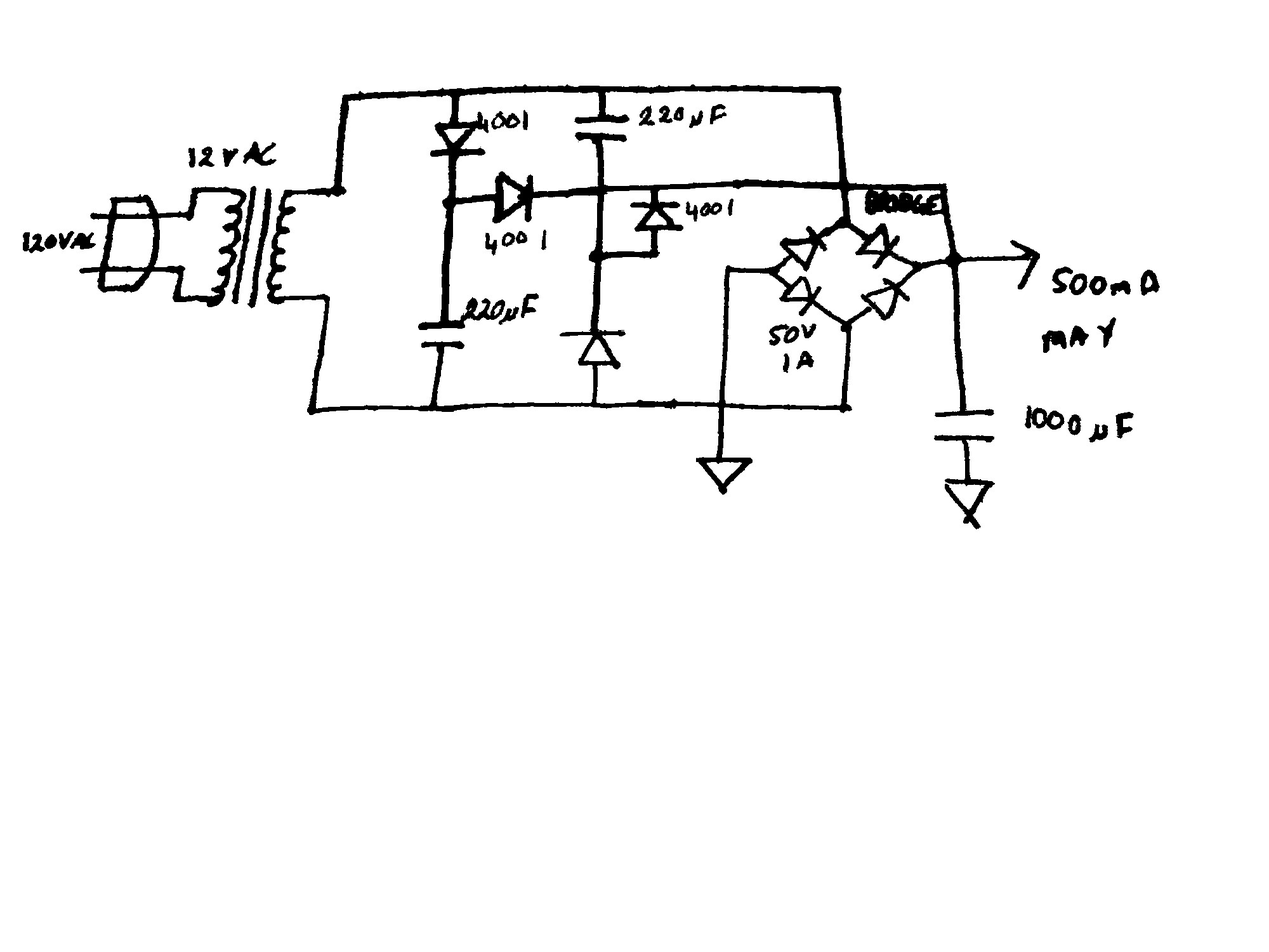capacitor.unpolarized: (931, 402, 1006, 446), (570, 114, 632, 143), (418, 320, 467, 350)
crossover: (713, 399, 730, 412), (836, 181, 851, 194), (596, 183, 608, 197)
diode: (557, 327, 628, 371), (491, 168, 540, 227), (860, 276, 912, 322), (427, 121, 487, 159), (854, 221, 900, 270), (780, 226, 829, 271), (625, 200, 685, 235), (778, 275, 823, 317)
gnd: (938, 474, 1001, 531), (692, 454, 755, 495)
inductor: (211, 186, 247, 308), (265, 185, 298, 306)
junction: (834, 214, 854, 232), (440, 194, 458, 212), (588, 248, 605, 265), (910, 257, 927, 274), (945, 251, 961, 269), (839, 318, 855, 334), (764, 265, 780, 280), (720, 261, 736, 275), (827, 84, 842, 98), (837, 399, 851, 414), (427, 400, 441, 414), (331, 185, 346, 198), (450, 88, 464, 101), (645, 183, 660, 195), (308, 403, 320, 418), (648, 248, 661, 261), (341, 92, 353, 105), (588, 399, 600, 411), (596, 85, 608, 96), (184, 210, 196, 221), (175, 264, 187, 274), (937, 182, 947, 193), (324, 292, 334, 303), (190, 185, 201, 195), (171, 293, 181, 303)
magnetic: (232, 184, 273, 307)
socket: (96, 194, 162, 296)
terminal: (1007, 238, 1042, 292), (84, 209, 101, 224), (76, 264, 91, 279)
text: (1022, 402, 1140, 446), (1050, 265, 1162, 300), (1039, 315, 1121, 360), (461, 289, 548, 326), (636, 100, 733, 131), (187, 141, 280, 171), (478, 227, 549, 259), (18, 230, 98, 255), (864, 192, 943, 217), (475, 109, 535, 136), (683, 197, 740, 224), (767, 322, 817, 347), (781, 349, 815, 374)
transformer: (208, 182, 301, 310)
